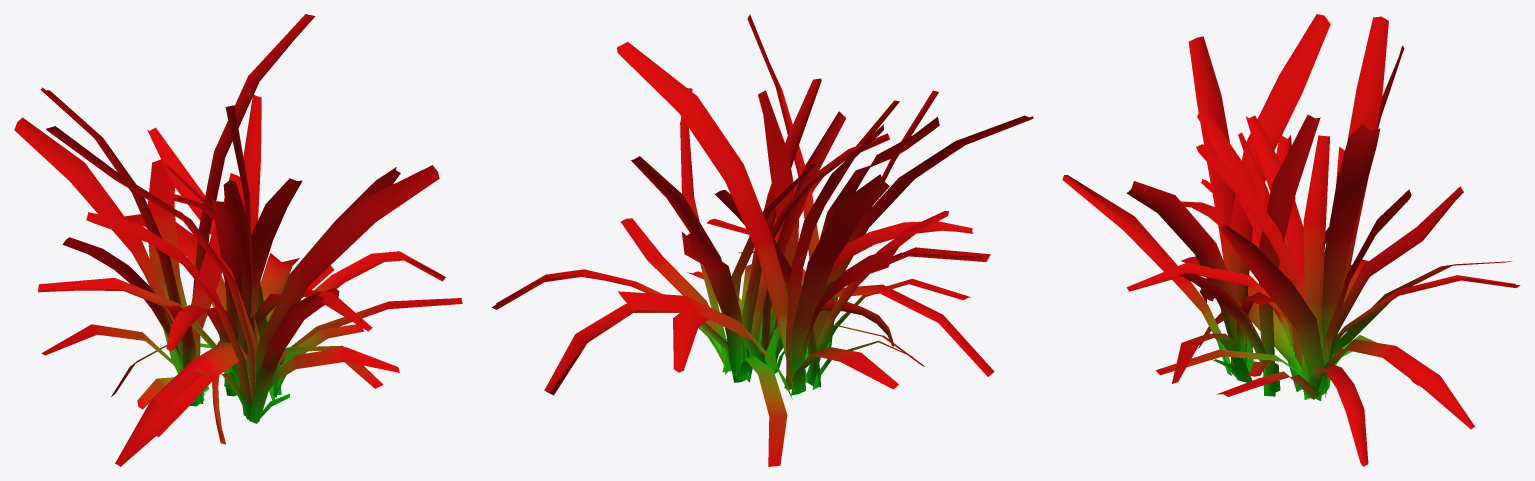
Rendered from Var8_LOD1.fbx.
The picture shows the model from 3 angles, left to right: view 1: azimuth 30°, elevation 25°; view 2: azimuth 150°, elevation 25°; view 3: azimuth 270°, elevation 25°; orthographic projection. The views are drawn at different scales.
Parts seen in each view (by area): view 1: _b06d_Var8_LOD1; view 2: _b06d_Var8_LOD1; view 3: _b06d_Var8_LOD1.
Part boxes in pixels (x1,y1,x2,y2): _b06d_Var8_LOD1: (14,14,462,466); _b06d_Var8_LOD1: (492,14,1033,466); _b06d_Var8_LOD1: (1062,14,1520,466).
Bounding box in the file's own units: 102 × 78.09 × 95.12.
